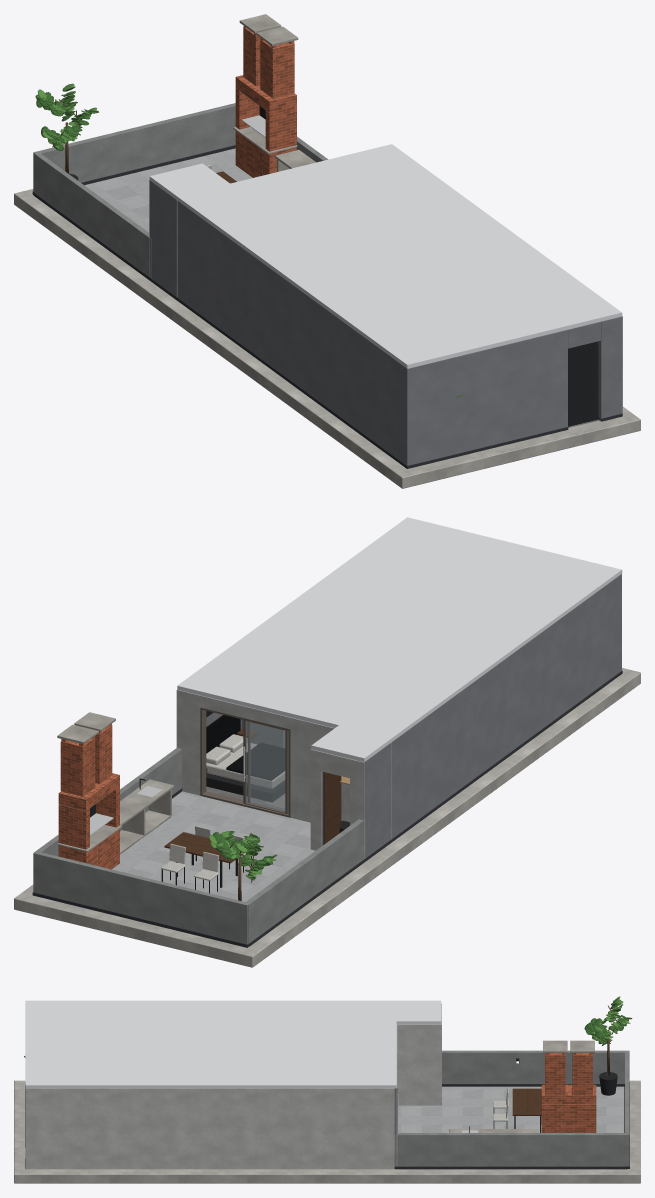
File: apartment-loft.glb
3 renders of one model, top to bottom at view 1: azimuth 30°, elevation 25°; view 2: azimuth 150°, elevation 25°; view 3: azimuth 270°, elevation 25°, orthographic. The views are drawn at different scales.
Visible parts, largest first — view 1: Ceiling, Wall_E_L0_03, Wall_S_L0_14, Slab, Wall_N_L0_00, Wall_E_L0_02, Floor_terrace_a, Door_entry, Wall_S_L0_13, Chimney1, Ceiling_laundry, BBQ_base (+4 smaller); view 2: Ceiling, Wall_E_L0_03, Slab, Wall_N_L0_00, Floor_terrace_a, Wall_E_L0_02, Floor_terrace_b, DoorSlide_glass, DoorFixed_glass, Clad_N_L0_05, Clad_N_L0_04, Chimney0 (+20 smaller); view 3: Ceiling, Clad_W_L0_11, Slab, Wall_W_L0_01, Floor_terrace_a, Wall_E_L0_02, Clad_W_L0_10, BBQ_back, Floor_terrace_b, Ceiling_laundry, Skirting_W_L0_01, Chimney0 (+9 smaller).
Boxes of the visible parts, <box> form: Ceiling: <box>177,144,622,368</box>; Wall_E_L0_03: <box>151,181,407,465</box>; Wall_S_L0_14: <box>407,329,567,465</box>; Slab: <box>14,189,640,488</box>; Wall_N_L0_00: <box>33,103,235,191</box>; Wall_E_L0_02: <box>34,153,151,277</box>; Floor_terrace_a: <box>84,148,252,232</box>; Door_entry: <box>568,341,598,426</box>; Wall_S_L0_13: <box>598,316,621,420</box>; Chimney1: <box>260,39,294,98</box>; Ceiling_laundry: <box>149,163,229,199</box>; BBQ_base: <box>235,131,296,177</box>; Ceiling: <box>177,517,622,741</box>; Wall_E_L0_03: <box>365,574,621,857</box>; Slab: <box>14,668,640,967</box>; Wall_N_L0_00: <box>33,851,249,944</box>; Floor_terrace_a: <box>112,814,315,901</box>; Wall_E_L0_02: <box>246,819,365,943</box>; Floor_terrace_b: <box>172,791,310,847</box>; DoorSlide_glass: <box>246,721,284,811</box>; DoorFixed_glass: <box>250,722,284,810</box>; Clad_N_L0_05: <box>289,717,391,838</box>; Clad_N_L0_04: <box>176,689,201,795</box>; Chimney0: <box>60,738,95,796</box>; Ceiling: <box>25,1000,396,1088</box>; Clad_W_L0_11: <box>25,1088,394,1169</box>; Slab: <box>14,1080,640,1183</box>; Wall_W_L0_01: <box>394,1133,627,1166</box>; Floor_terrace_a: <box>439,1086,624,1132</box>; Wall_E_L0_02: <box>442,1050,624,1083</box>; Clad_W_L0_10: <box>397,1024,441,1105</box>; BBQ_back: <box>541,1104,596,1132</box>; Floor_terrace_b: <box>397,1105,438,1132</box>; Ceiling_laundry: <box>396,1000,441,1024</box>; Skirting_W_L0_01: <box>394,1166,627,1169</box>; Chimney0: <box>572,1053,592,1095</box>.
Size of the model in its own units: 6.5 by 4.08 by 18.3.
Materials: 54 (20 with a texture image).
